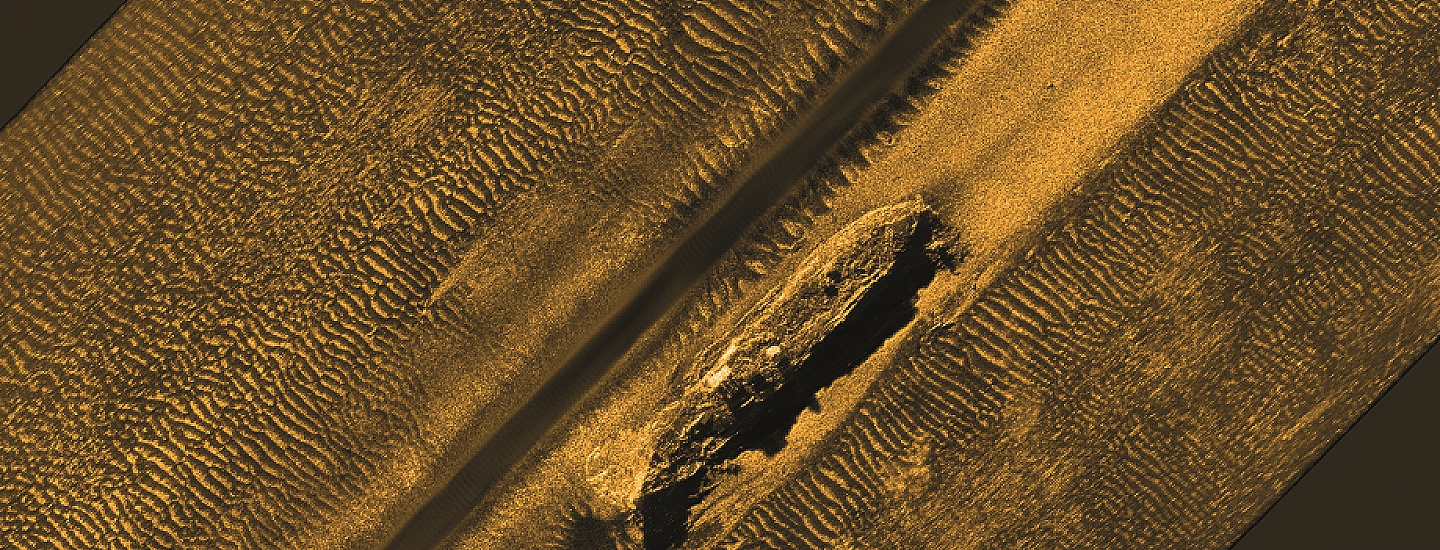ship: (630, 190, 942, 512)
